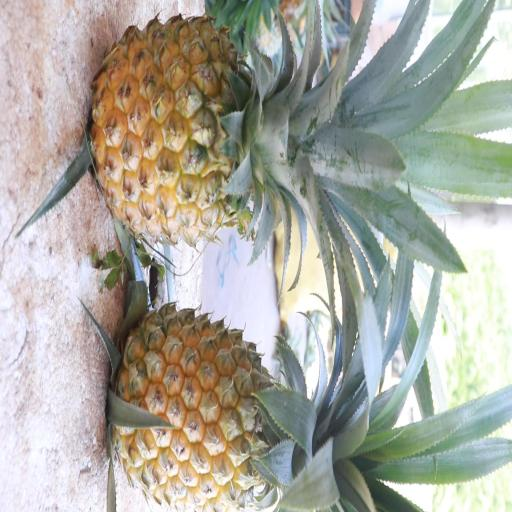Pineapple - v8 v1: (89, 6, 327, 250), (105, 296, 350, 512)
